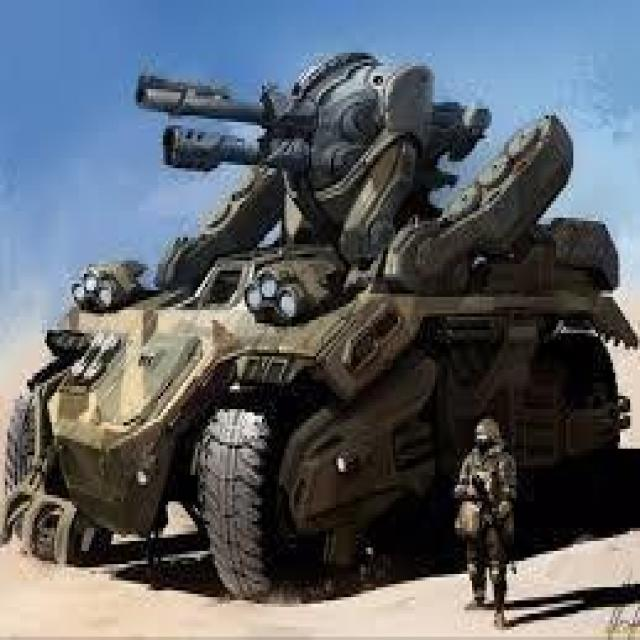Tanks: (29, 17, 567, 600)
